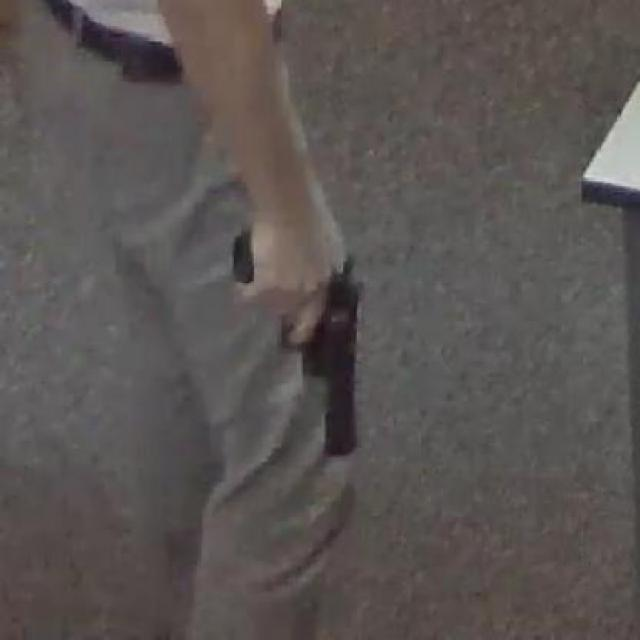gun: (230, 224, 368, 458)
